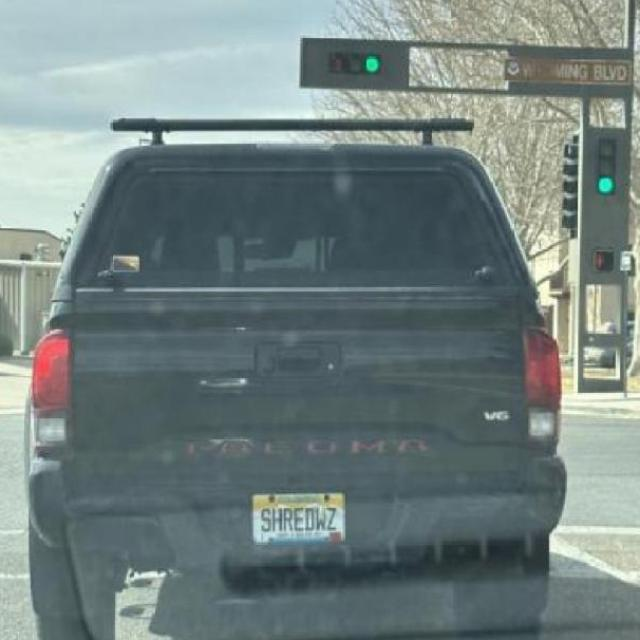license-plate: (261, 488, 347, 536)
